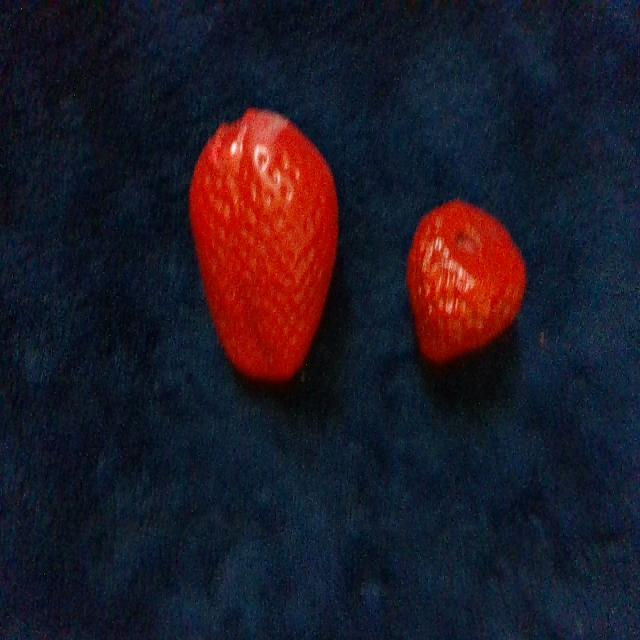chica_roja: (408, 201, 525, 363)
grande_roja: (190, 109, 337, 380)
